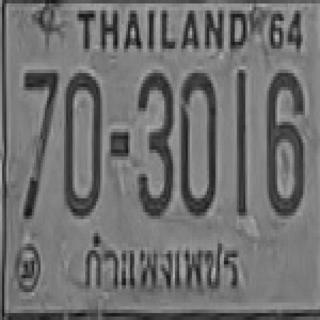N00: (63, 70, 102, 216), (179, 70, 215, 216)
N01: (236, 66, 246, 215)
N03: (137, 70, 173, 216)
N06: (266, 70, 304, 216)
N07: (22, 66, 59, 215), (22, 68, 59, 193)
P16: (71, 222, 246, 300)
